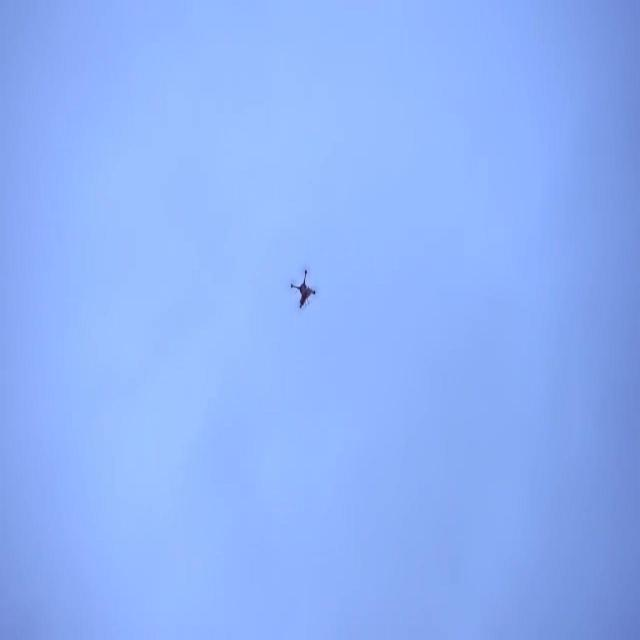UAV: (291, 270, 315, 308)
